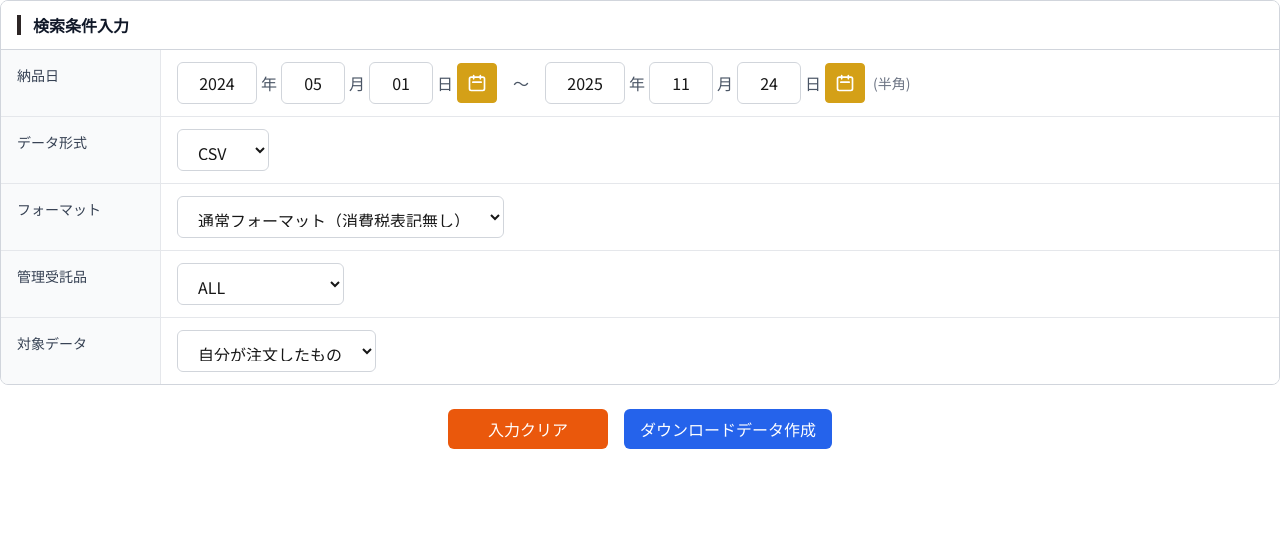
Test: PurchaseDataDownloadForm › 日付バリデーションエラーが表示される
Click the button "ダウンロードデータ作成".
click(728, 429)  # box [624,409,832,449]
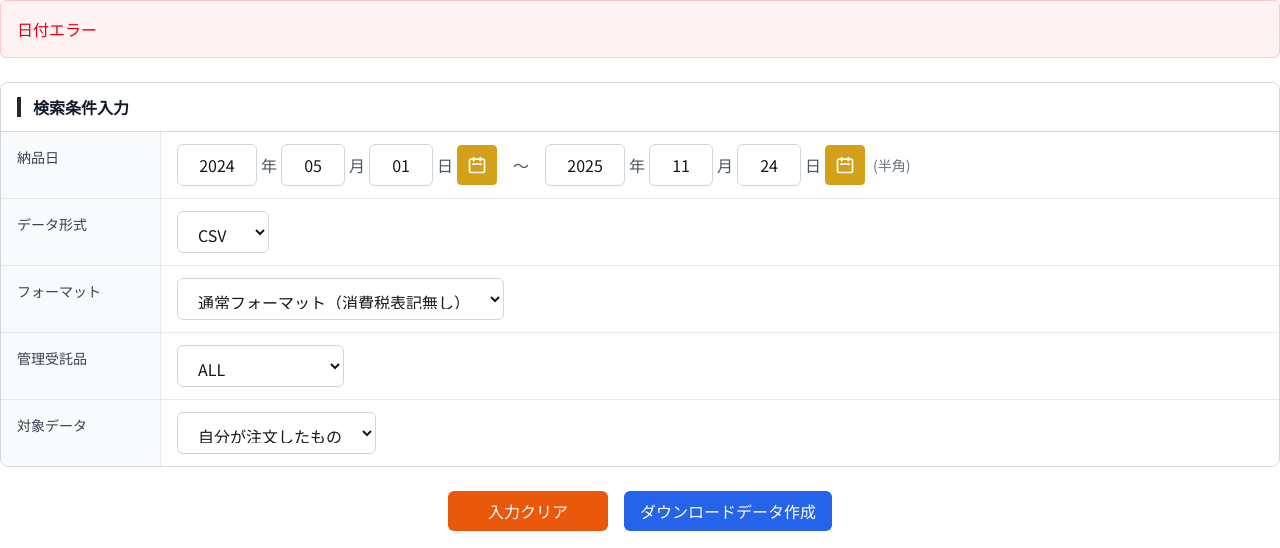
expect the text "日付エラー" is shown: met, box [17,17,97,41]
